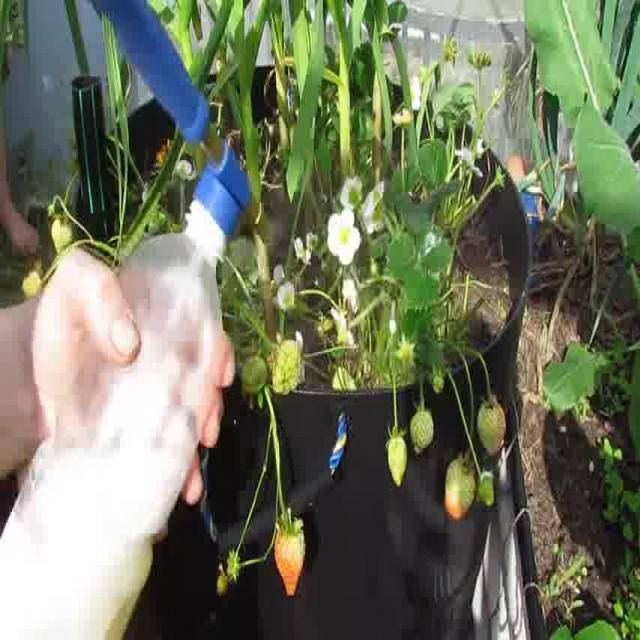Fruta sana: (274, 511, 306, 597), (478, 396, 507, 456), (272, 341, 300, 394), (22, 256, 48, 300), (240, 356, 268, 396), (476, 468, 496, 506), (332, 366, 359, 390), (228, 544, 240, 584), (432, 363, 444, 393), (216, 575, 228, 598), (322, 316, 334, 332), (72, 128, 78, 150), (71, 158, 79, 173), (48, 202, 55, 216)
Moho gris: (445, 449, 476, 520), (385, 426, 408, 488), (410, 408, 434, 456)
Oído: (51, 214, 77, 256)
